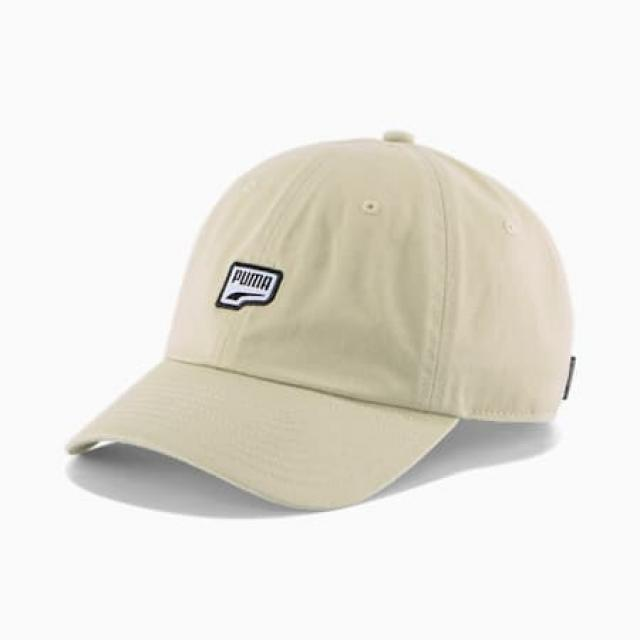Cap: (75, 86, 589, 502)
